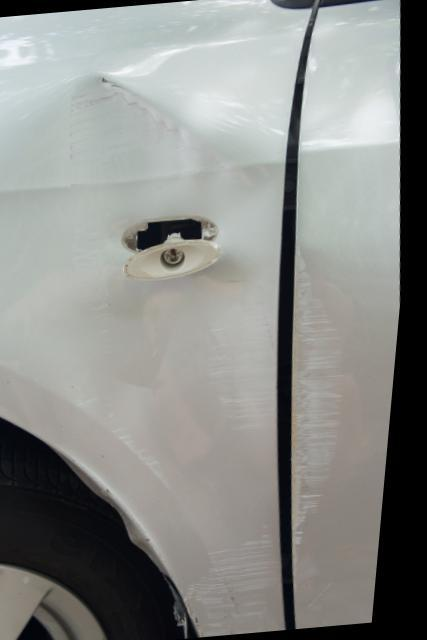dent: (0, 80, 279, 493)
scratch: (298, 241, 358, 575), (210, 288, 286, 444), (199, 524, 283, 637)
